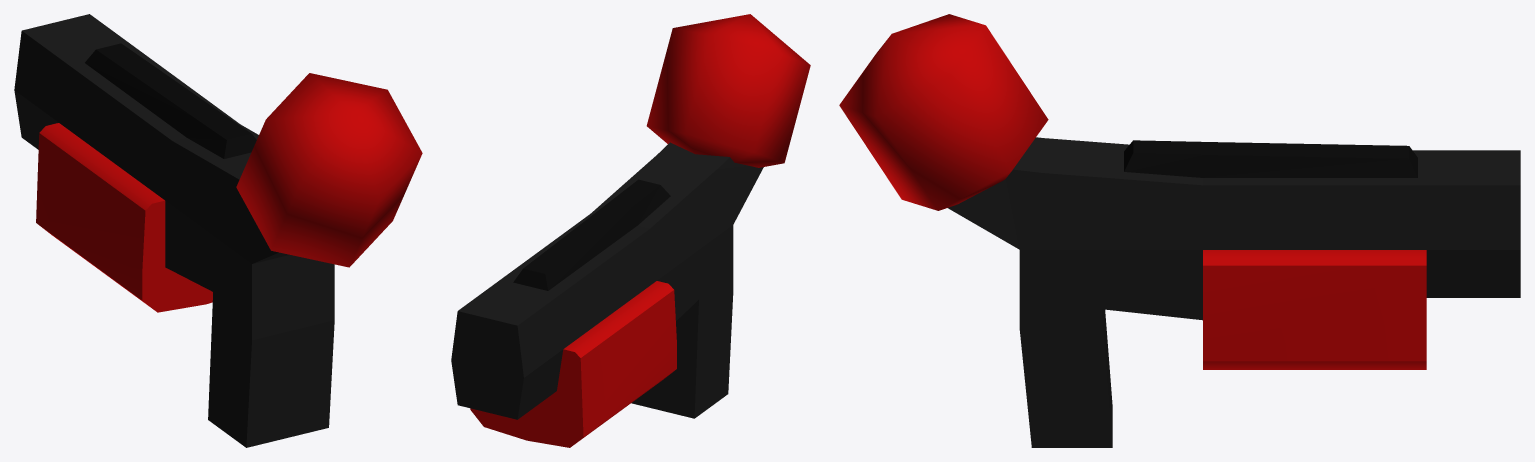
Rendered from Pistol.FBX.
The picture shows the model from 3 angles, left to right: view 1: azimuth 30°, elevation 25°; view 2: azimuth 150°, elevation 25°; view 3: azimuth 270°, elevation 25°; orthographic projection. The views are drawn at different scales.
Parts seen in each view (by area): view 1: Weapon, Clip; view 2: Weapon, Clip; view 3: Weapon, Clip.
Part boxes in pixels (box(x1,y1,x2,y2)): Weapon: box(14, 14, 334, 447); Clip: box(236, 73, 422, 267); Weapon: box(451, 142, 763, 447); Clip: box(646, 14, 810, 167); Weapon: box(948, 137, 1520, 447); Clip: box(839, 14, 1048, 210).
Size of the model in its own units: 17.62 by 49.89 by 76.78.
